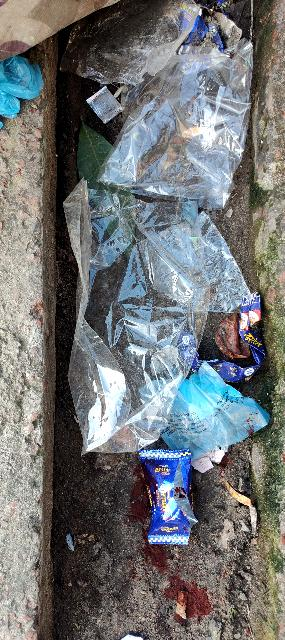polythene: (62, 26, 262, 464)
